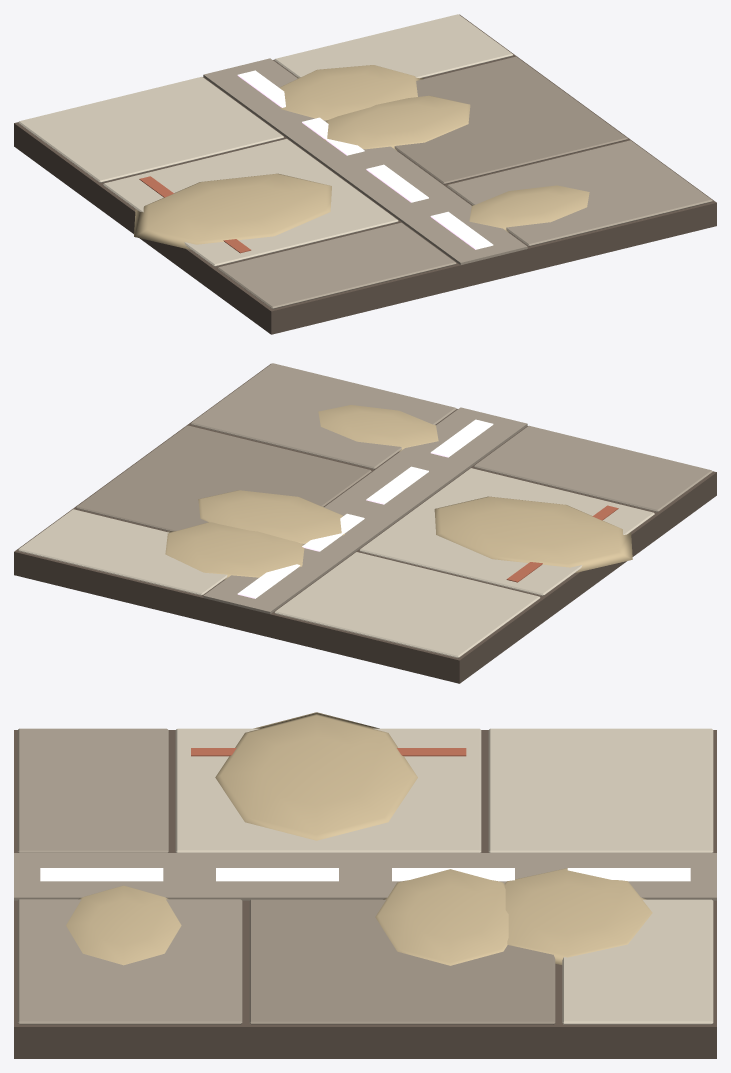
The model's file is floor_du_glow.glb.
3 views of the same model, one above another, from view 1: azimuth 30°, elevation 25°; view 2: azimuth 150°, elevation 25°; view 3: azimuth 270°, elevation 25° (orthographic). The views are drawn at different scales.
Parts seen in each view (by area): view 1: floor_du_glow; view 2: floor_du_glow; view 3: floor_du_glow.
Boxes of the visible parts, x1,y1,x2,y2 form: floor_du_glow: [14, 14, 716, 334]; floor_du_glow: [14, 363, 716, 683]; floor_du_glow: [14, 712, 716, 1058].
Bounding box in the file's own units: 4.24 × 0.2713 × 4.
